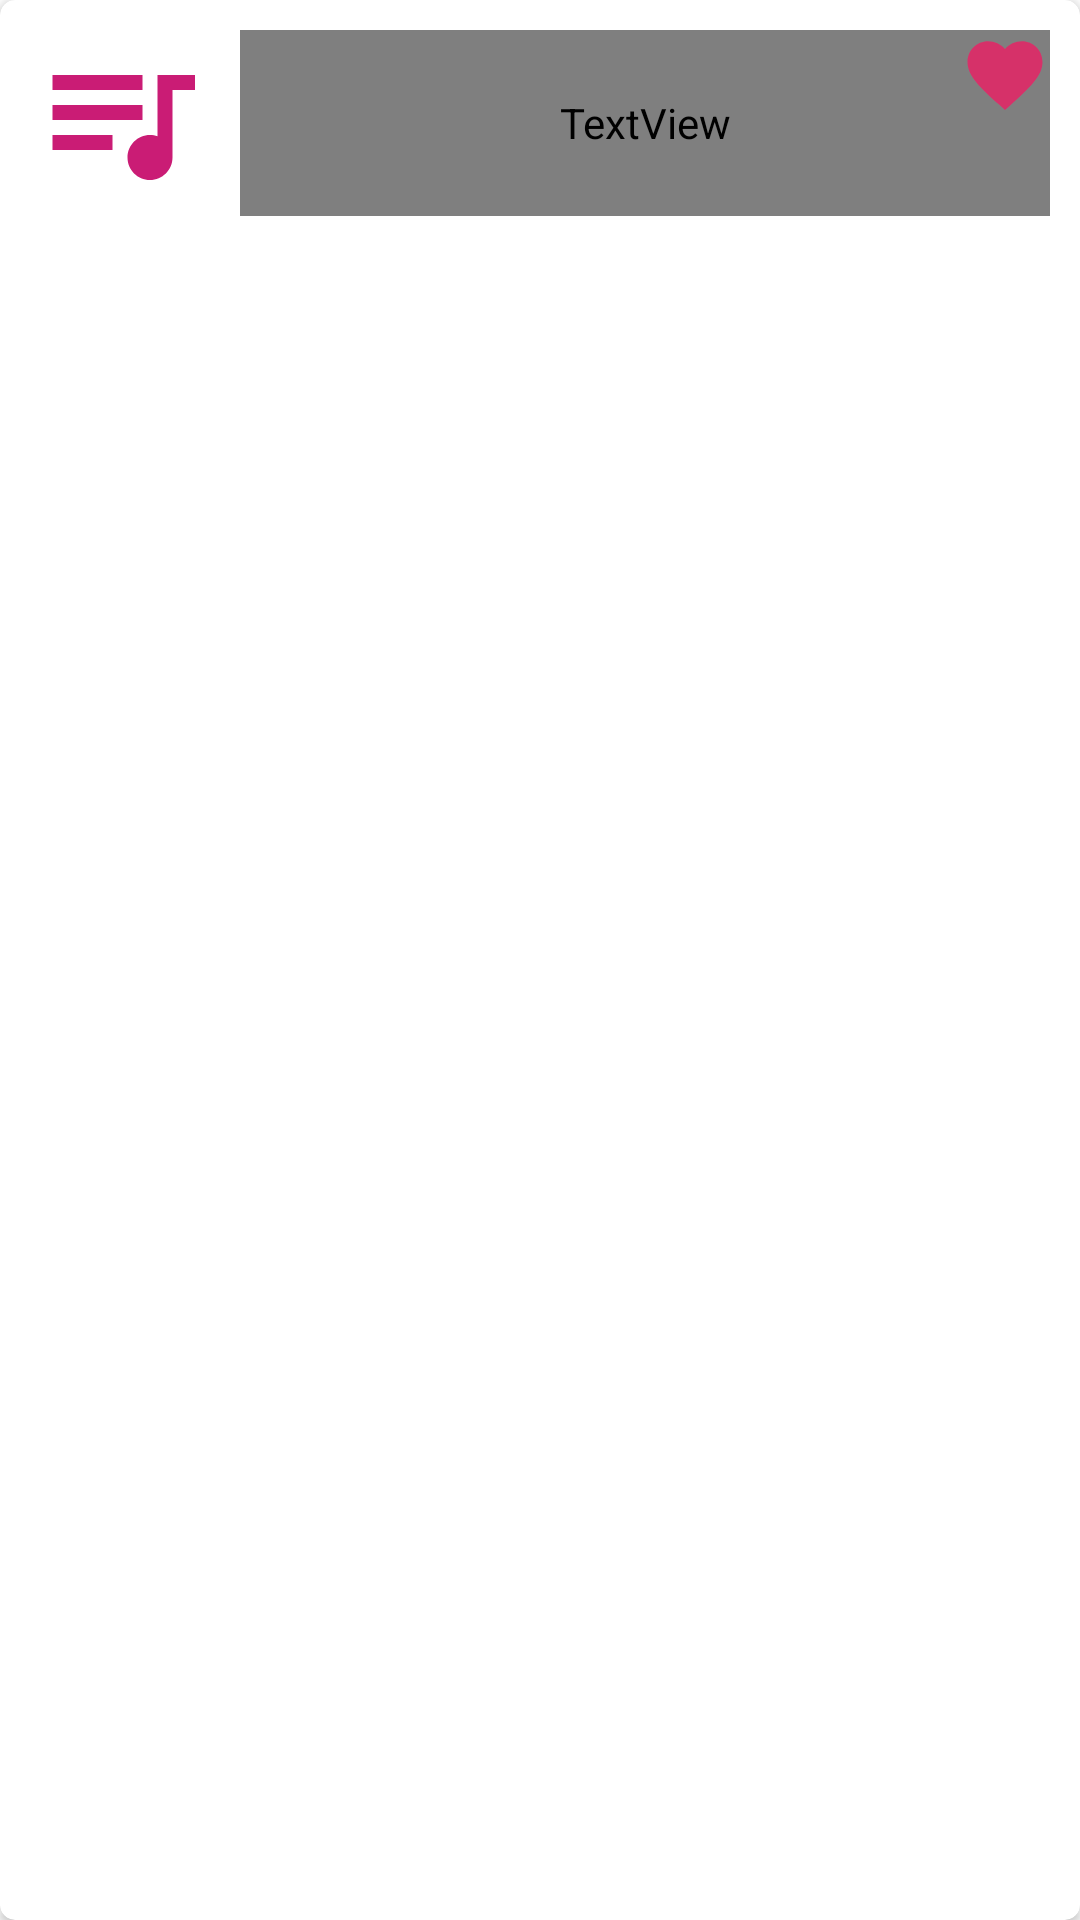

Where icons sit on this 1080px×1920px app screen, as (x1, y1, x2, y2):
favorite: (967, 41, 1043, 110)
queue music: (52, 75, 195, 180)
